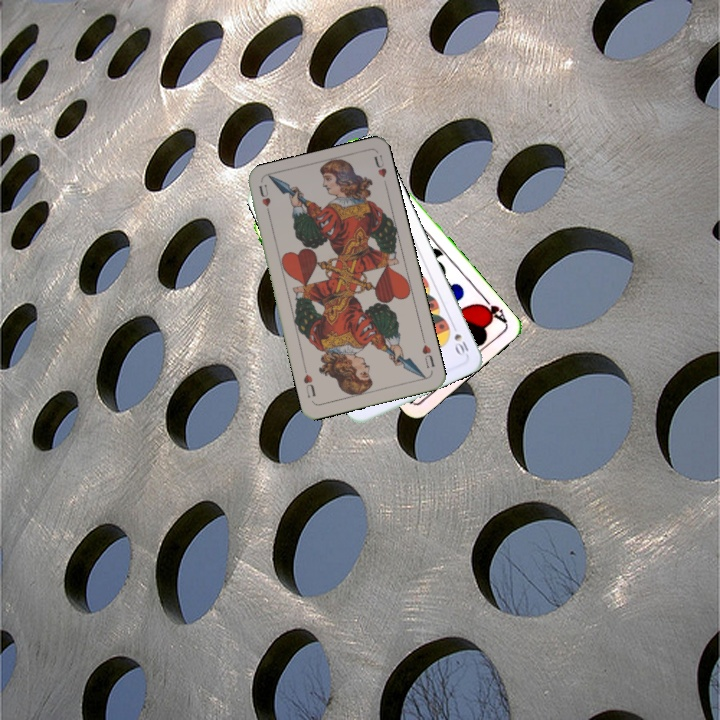HA: (475, 292, 510, 327)
HU: (255, 180, 273, 220), (418, 334, 437, 371)
S10: (448, 319, 473, 359)
